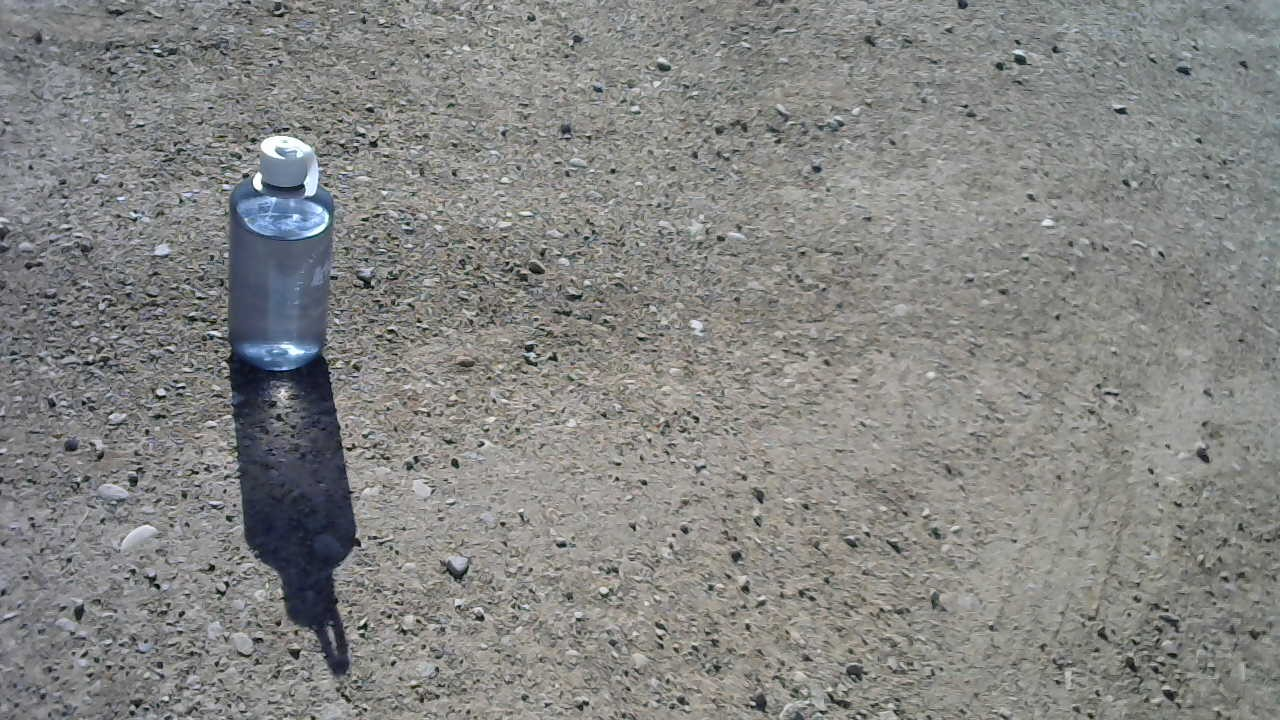bottle: (221, 122, 342, 374)
